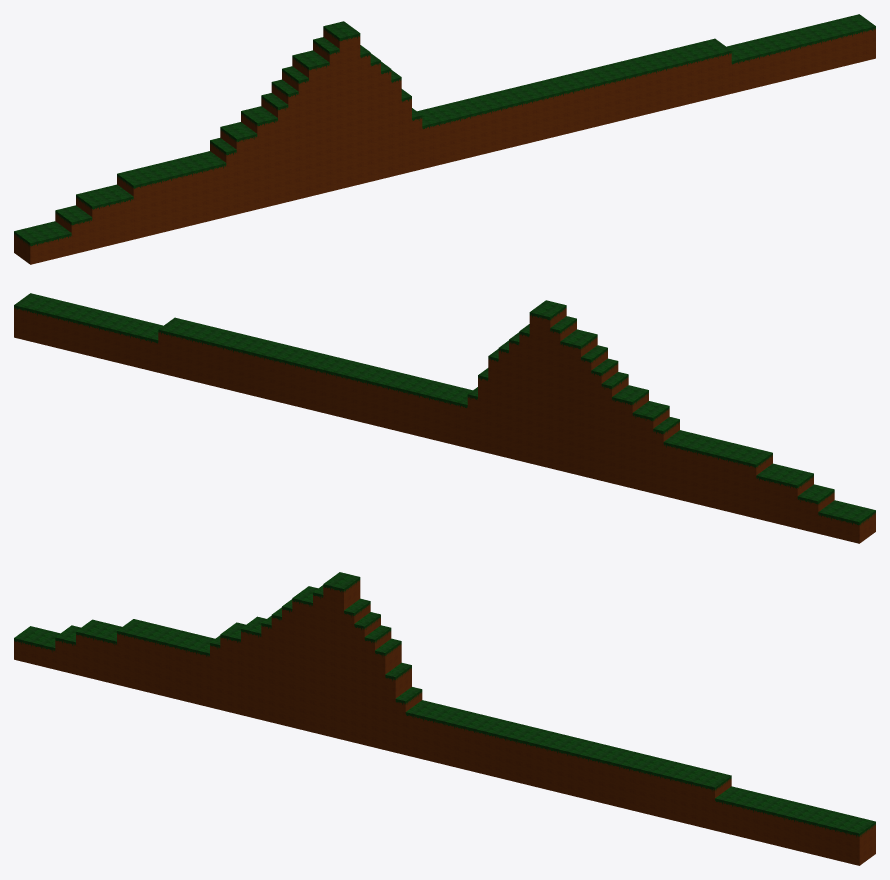
File: Luna0RainbowSoloOriginalV2.glb
The picture shows the model from 3 angles, top to bottom: view 1: azimuth 30°, elevation 25°; view 2: azimuth 150°, elevation 25°; view 3: azimuth 330°, elevation 25°; orthographic projection.
Visible parts, largest first — view 1: Setor_0, Setor_1, Setor_2; view 2: Setor_0, Setor_1, Setor_2; view 3: Setor_0, Setor_1, Setor_2.
Part boxes in pixels (bbox=[...]): Setor_0: bbox=[14, 21, 360, 264]; Setor_1: bbox=[360, 45, 690, 184]; Setor_2: bbox=[674, 14, 875, 103]; Setor_0: bbox=[529, 300, 875, 543]; Setor_1: bbox=[199, 324, 529, 463]; Setor_2: bbox=[14, 293, 215, 382]; Setor_0: bbox=[14, 572, 359, 739]; Setor_1: bbox=[344, 577, 689, 820]; Setor_2: bbox=[674, 765, 875, 865].
Bounding box in the file's own units: 85.28 × 14.56 × 2.88.
Materials: 1 (1 with a texture image).
